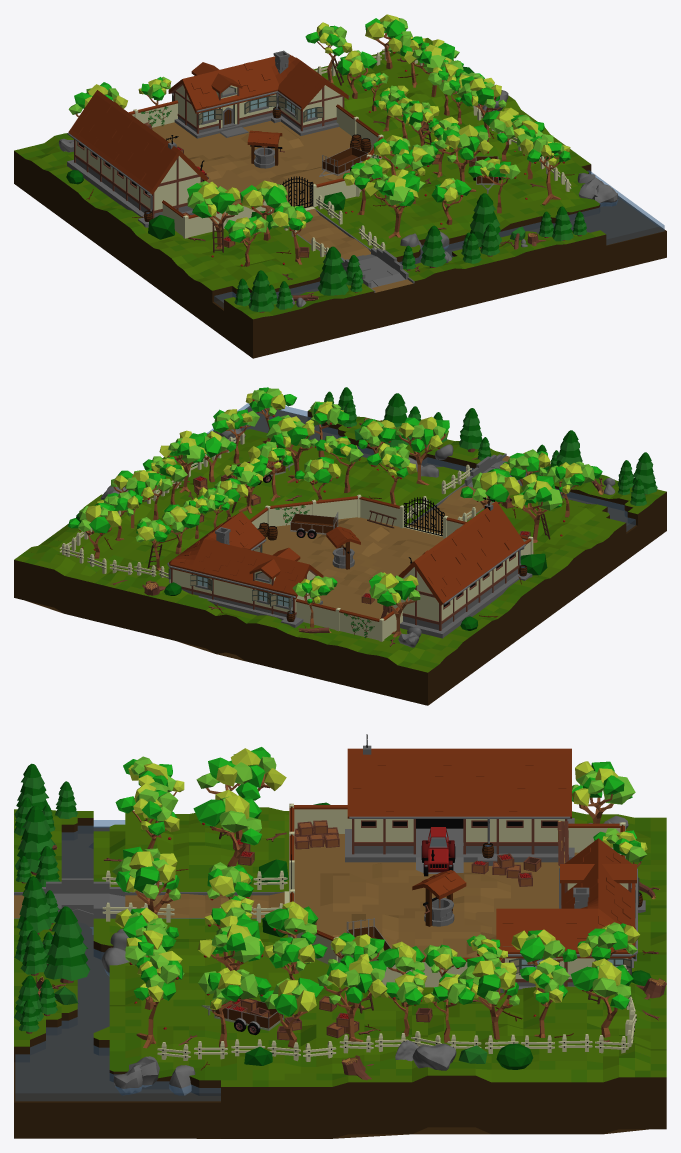
The model's file is orchard.glb.
3 views of the same model, one above another, from view 1: azimuth 30°, elevation 25°; view 2: azimuth 150°, elevation 25°; view 3: azimuth 270°, elevation 25° (orthographic). The views are drawn at different scales.
Visible parts, largest first — view 1: ground, House, barnhouse, barnyard, water, barnyard_elevation, leaves2.3, leaves2.1, leaves_block4.005, leaves_block3.007, leaves2.4, Icosphere.010 (+34 smaller); view 2: ground, barnhouse, House, barnyard, barnyard_elevation, water, Trunk5.001, fence_posts, leaves_block2.008, leaves_block2.010, leaves.002, Icosphere.013 (+39 smaller); view 3: ground, barnhouse, water, House, barnyard_elevation, barnyard, fence_rail, leaves_block3.007, Icosphere.013, fence_posts, leaves2.3, leaves2.5 (+50 smaller).
Boxes of the visible parts, x1,y1,x2,y2 form: ground: (14,38,666,358); House: (168,53,348,138); barnhouse: (67,90,208,227); barnyard: (152,121,371,208); water: (214,170,664,308); barnyard_elevation: (189,125,337,204); leaves2.3: (236,219,586,301); leaves2.1: (234,229,587,311); leaves_block4.005: (241,22,518,209); leaves_block3.007: (264,19,499,208); leaves2.4: (237,211,584,296); Icosphere.010: (74,87,493,213); ground: (14,406,666,705); barnhouse: (390,501,532,638); House: (169,511,323,627); barnyard: (262,517,444,618); barnyard_elevation: (307,519,434,595); water: (207,403,635,531); Trunk5.001: (167,433,547,637); fence_posts: (62,432,517,583); leaves_block2.008: (89,427,508,533); leaves_block2.010: (85,420,497,522); leaves.002: (181,424,562,598); Icosphere.013: (159,416,536,586); ground: (14,807,666,1138); barnhouse: (345,748,574,873); water: (15,820,220,1100); House: (496,838,645,992); barnyard_elevation: (315,863,510,956); barnyard: (294,834,619,957); fence_rail: (102,877,636,1057); leaves_block3.007: (123,799,598,998); Icosphere.013: (157,761,593,998); fence_posts: (106,870,634,1061); leaves2.3: (15,792,88,1021); leaves2.5: (18,776,81,1013).
Size of the model in its own units: 25 by 6.76 by 25.01.
